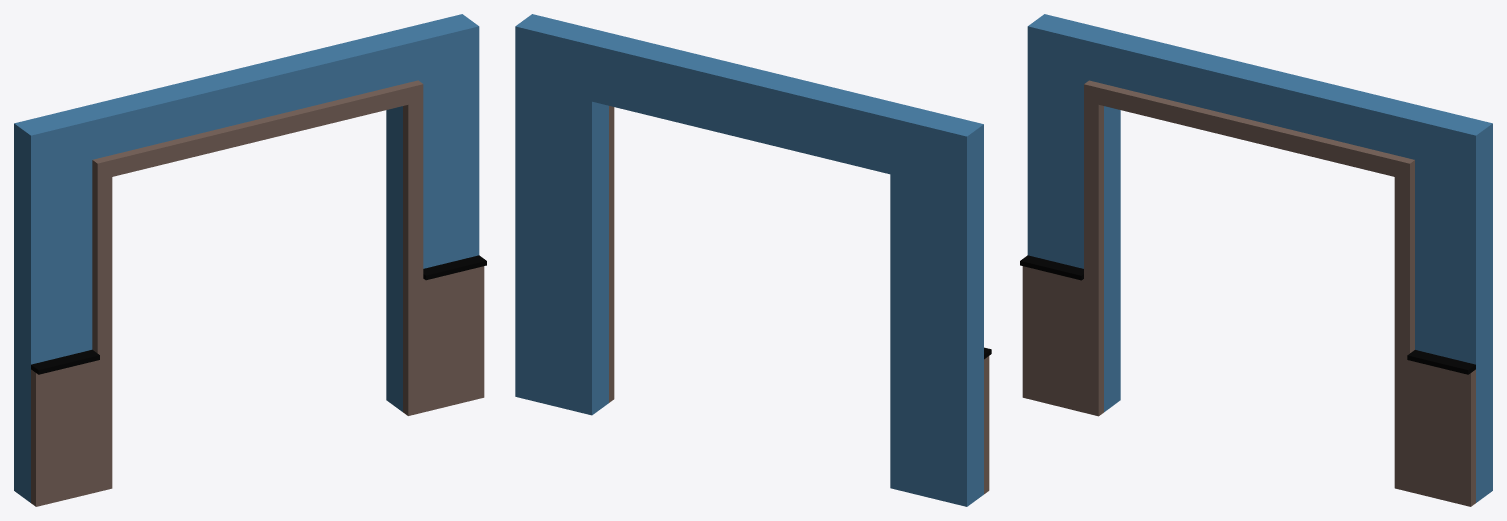
Rendered from P_Wall_Doors_1.fbx.
3 renders of one model, left to right at view 1: azimuth 30°, elevation 25°; view 2: azimuth 150°, elevation 25°; view 3: azimuth 330°, elevation 25°, orthographic.
Parts seen in each view (by area): view 1: P_Wall_Doors_1; view 2: P_Wall_Doors_1; view 3: P_Wall_Doors_1.
Boxes of the visible parts, bbox=[...] form: P_Wall_Doors_1: bbox=[14, 14, 486, 506]; P_Wall_Doors_1: bbox=[515, 14, 991, 506]; P_Wall_Doors_1: bbox=[1020, 14, 1492, 506].
Size of the model in its own units: 2000 by 189 by 1568.
